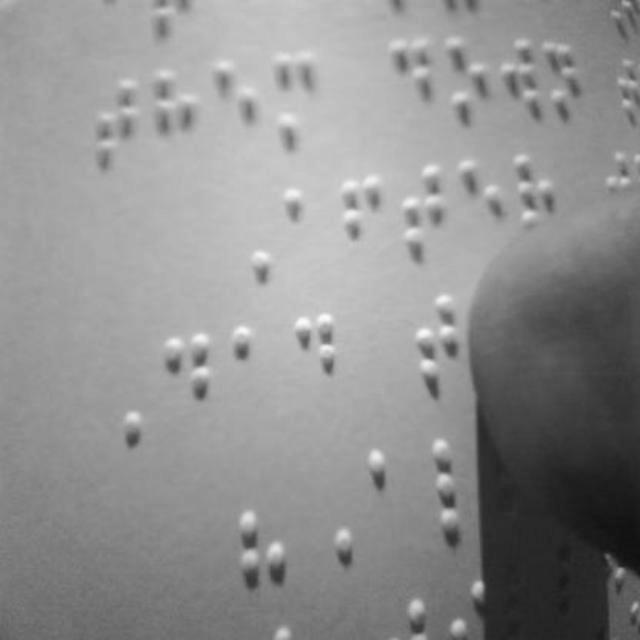braiile: (432, 439, 504, 546), (363, 440, 427, 550), (158, 328, 218, 438), (406, 286, 466, 394), (396, 160, 452, 274), (289, 310, 347, 420), (456, 152, 512, 260), (268, 49, 322, 155), (228, 321, 282, 424), (339, 169, 389, 279), (151, 66, 201, 168), (90, 70, 138, 176), (283, 179, 333, 277), (209, 58, 255, 158), (388, 34, 434, 134), (498, 26, 542, 130), (446, 34, 488, 136), (544, 30, 582, 126)
